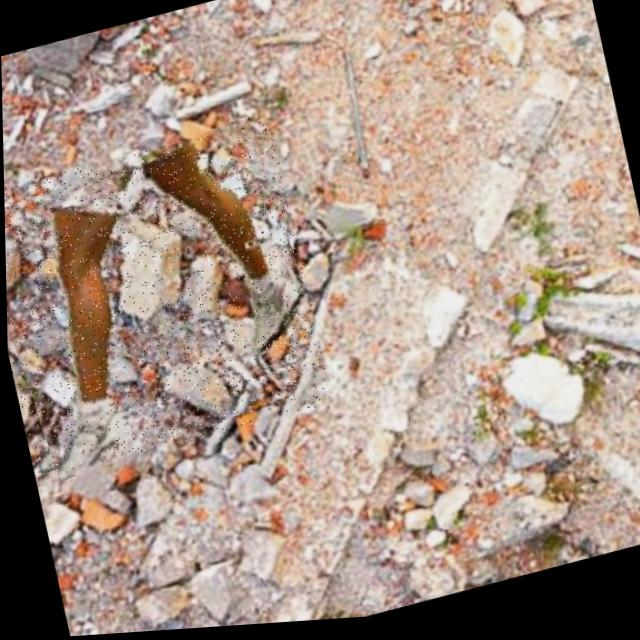Person in Rubble: (2, 118, 332, 482)
